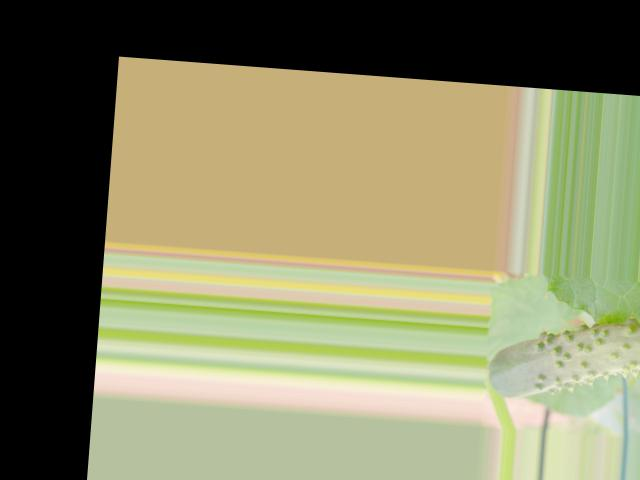cucumber: (485, 307, 640, 410)
